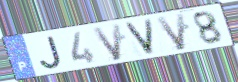4: (69, 30, 97, 64)
8: (192, 10, 224, 45)
J: (38, 34, 64, 71)
V: (121, 17, 156, 57), (154, 11, 187, 52), (91, 21, 123, 63)
